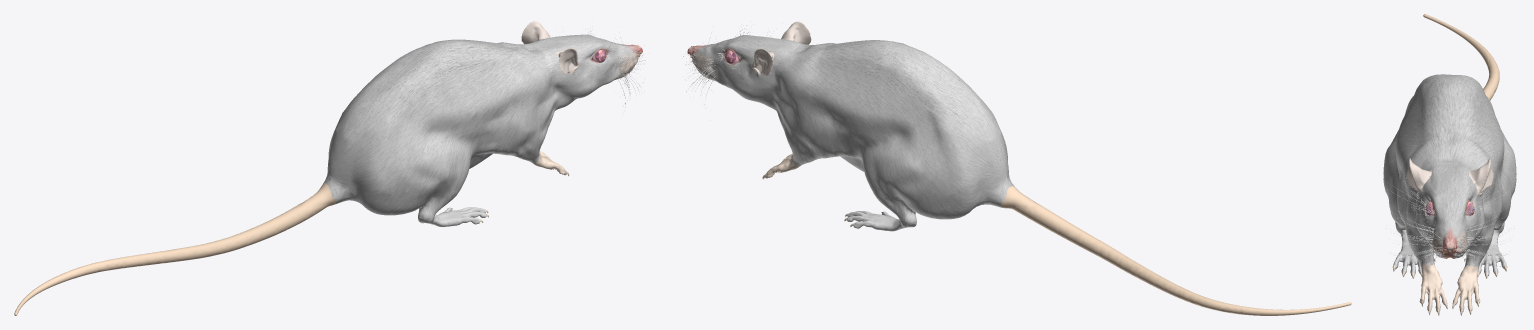
The picture shows the model from 3 angles, left to right: view 1: azimuth 30°, elevation 25°; view 2: azimuth 150°, elevation 25°; view 3: azimuth 270°, elevation 25°; orthographic projection. The views are drawn at different scales.
Visible parts, largest first — view 1: 3DSMeshMatrix (×3); view 2: 3DSMeshMatrix (×3); view 3: 3DSMeshMatrix (×9).
Part boxes in pixels (<box>): 3DSMeshMatrix (×3): <box>14,21,642,315</box>; 3DSMeshMatrix (×3): <box>687,21,1351,315</box>; 3DSMeshMatrix (×9): <box>1383,14,1516,311</box>.
Bounding box in the file's own units: 12951 × 3184 × 2192.
15 materials, 3 textured.
